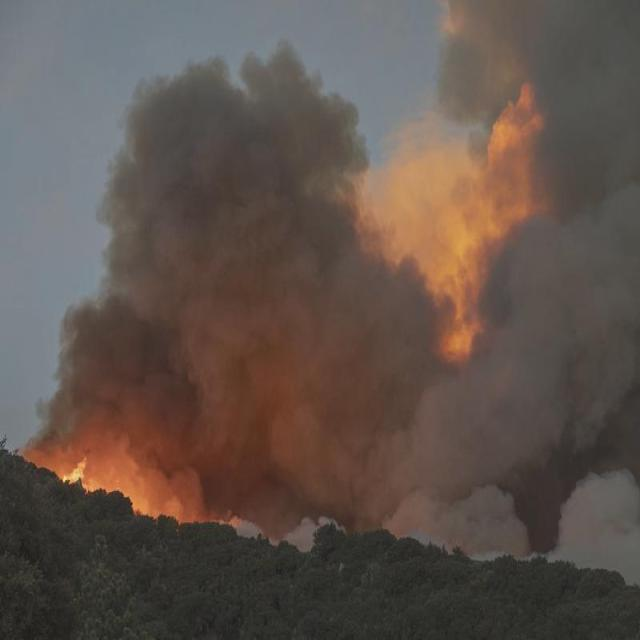Fire: (59, 456, 90, 491)
